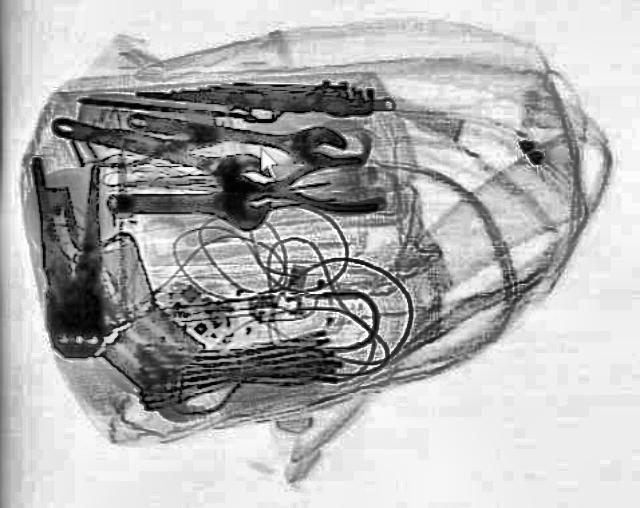Pliers: (30, 154, 106, 358), (228, 155, 376, 219)
Wrench: (38, 103, 278, 201), (121, 98, 349, 168), (104, 178, 272, 232)
